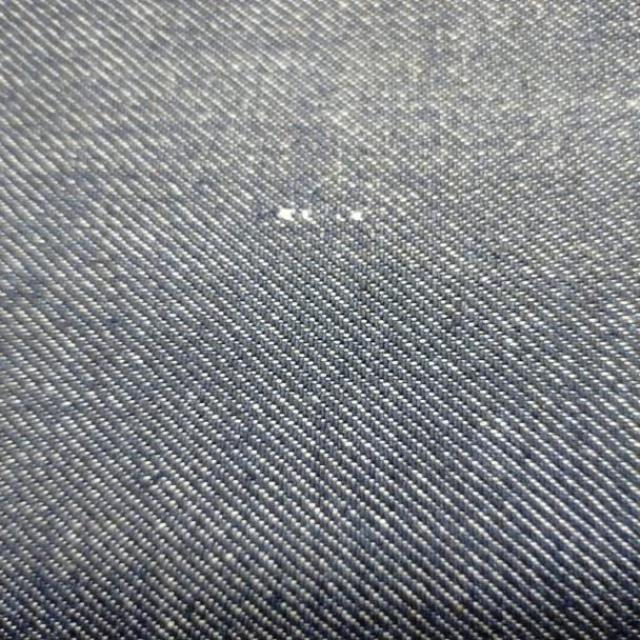Knot: (275, 206, 320, 223), (328, 209, 366, 223)
